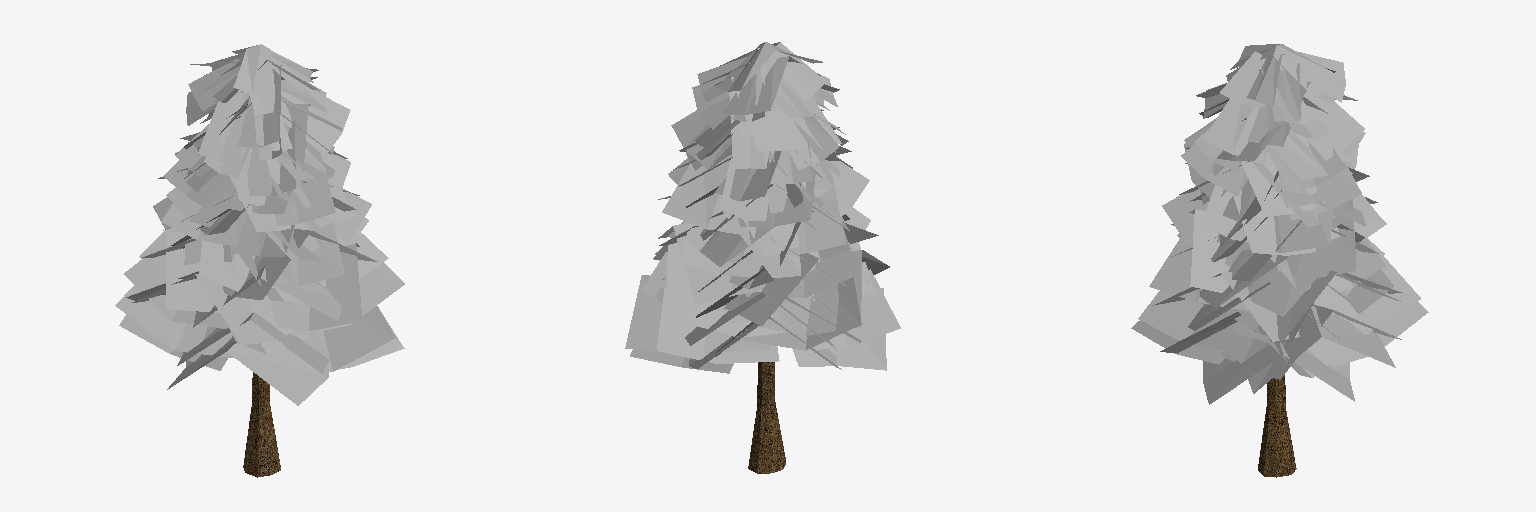
The picture shows the model from 3 angles: view 1: azimuth 30°, elevation 25°; view 2: azimuth 150°, elevation 25°; view 3: azimuth 270°, elevation 25°; orthographic projection.
Visible parts, largest first — view 1: fir; view 2: fir; view 3: fir.
Boxes of the visible parts, x1,y1,x2,y2 form: fir: [115, 44, 404, 477]; fir: [625, 42, 900, 473]; fir: [1131, 44, 1428, 477].
Bounding box in the file's own units: 11.02 × 19.06 × 12.1.
2 materials, 1 textured.